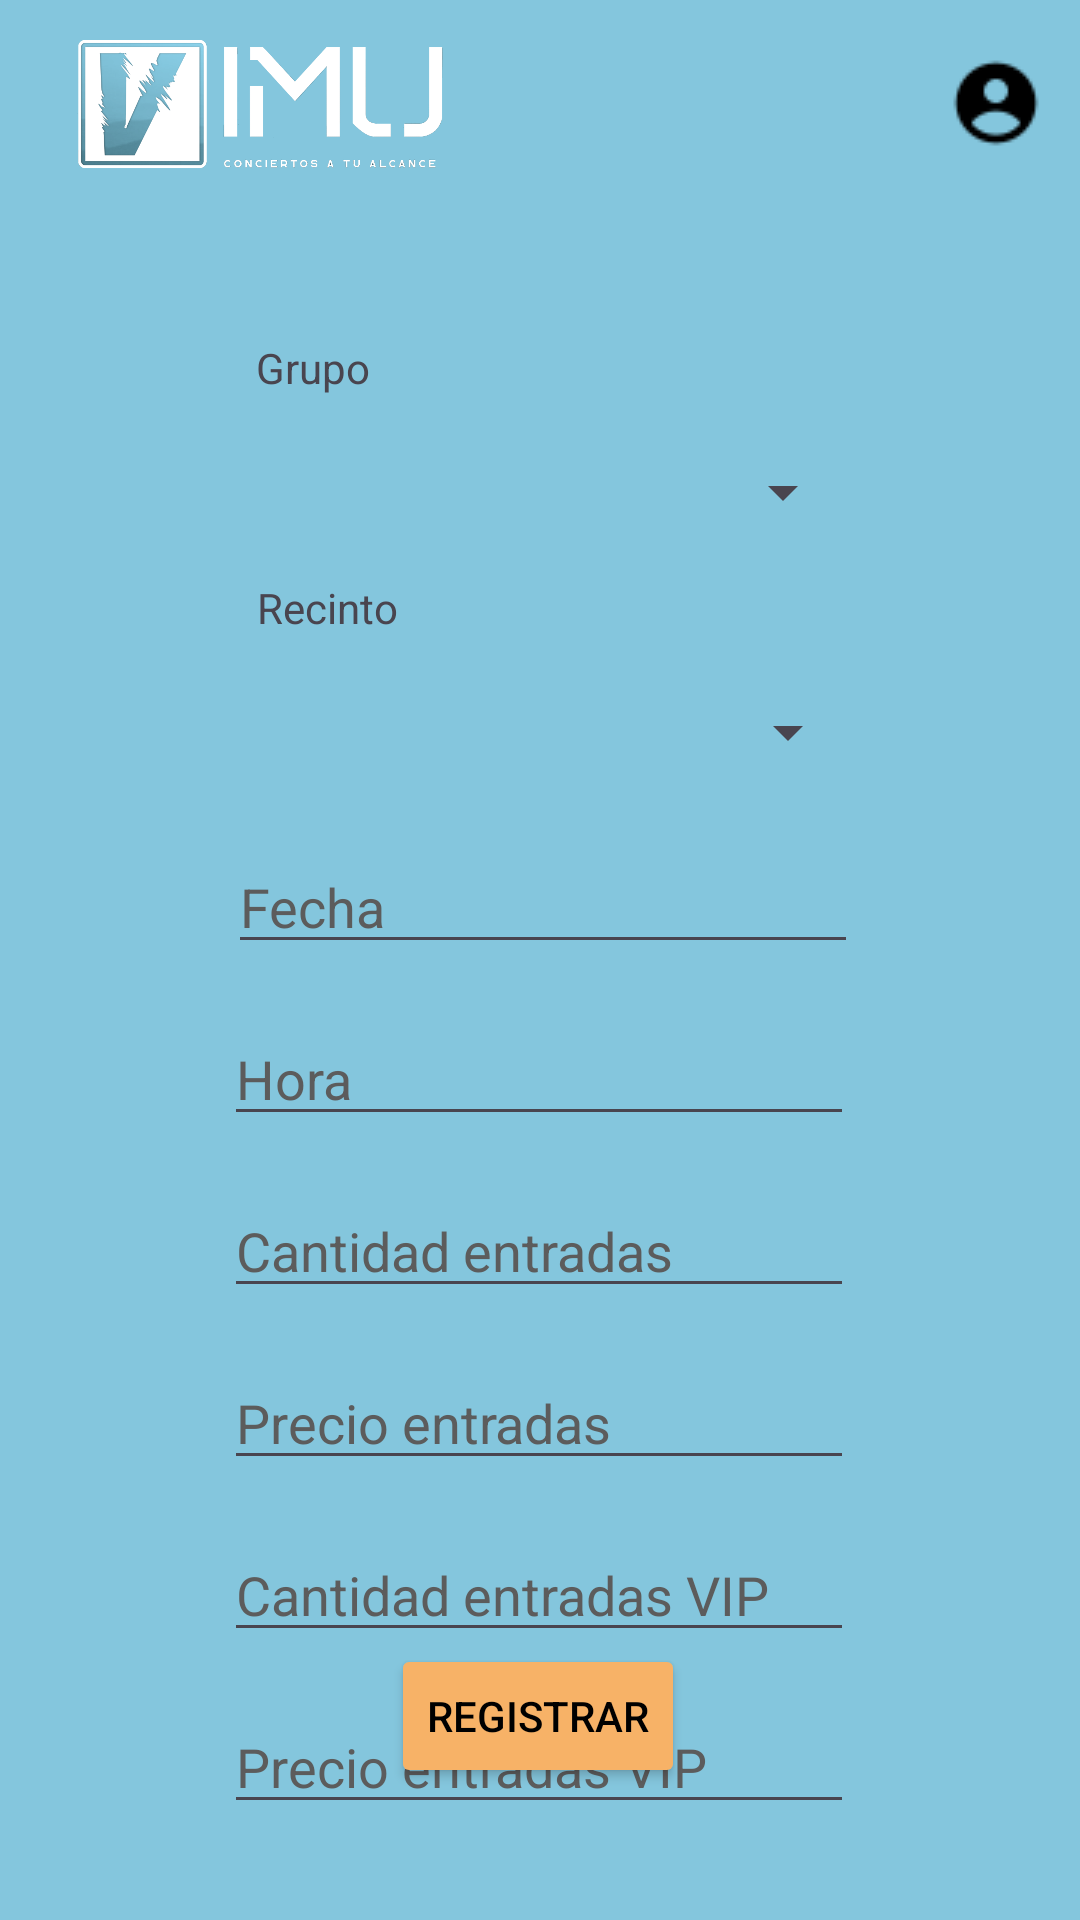

Named icons in this screenshot (1080 x 1920) and their bounding boxes, BBox(x1, y1, x2, y2):
Perfil: BBox(954, 61, 1038, 145)
